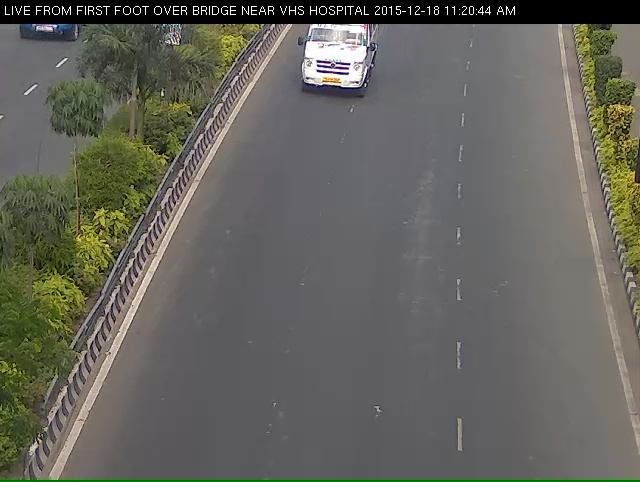Bus: (284, 23, 382, 114)
